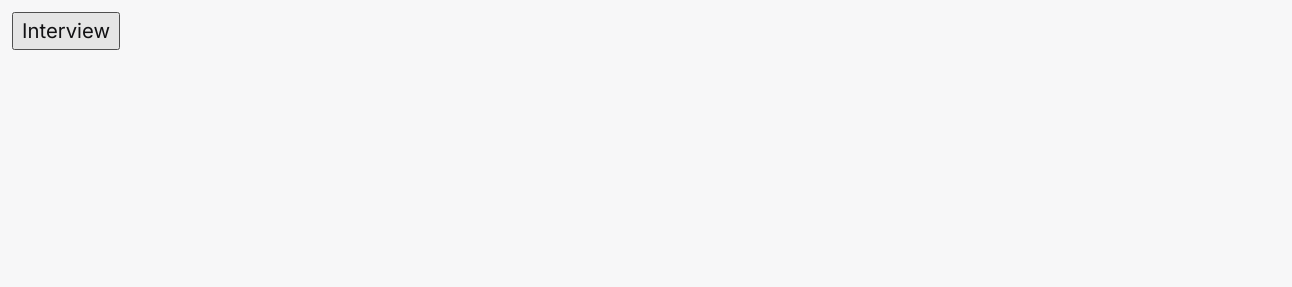
Test: SelectInput › picks an option and passes its value and the option itself
Click the dropdown named "Status": point(66, 31) x1=12 y1=12 x2=120 y2=50
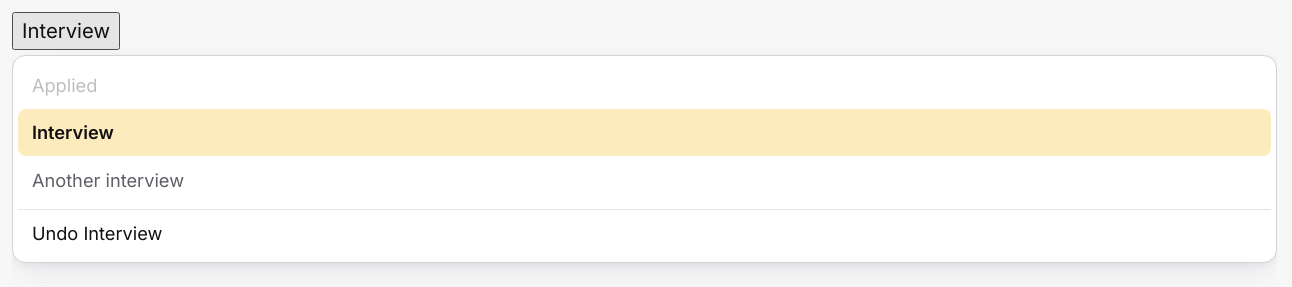
Click the option "Another interview": point(108, 180) x1=32 y1=168 x2=184 y2=190
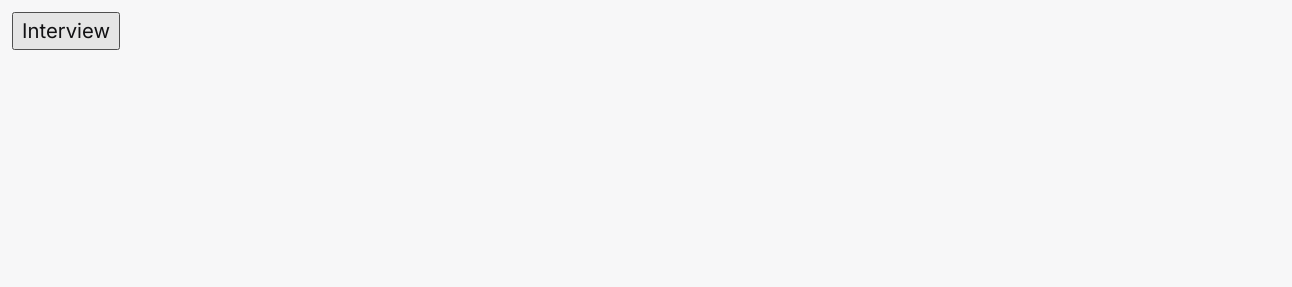
Expected: the list is gone
